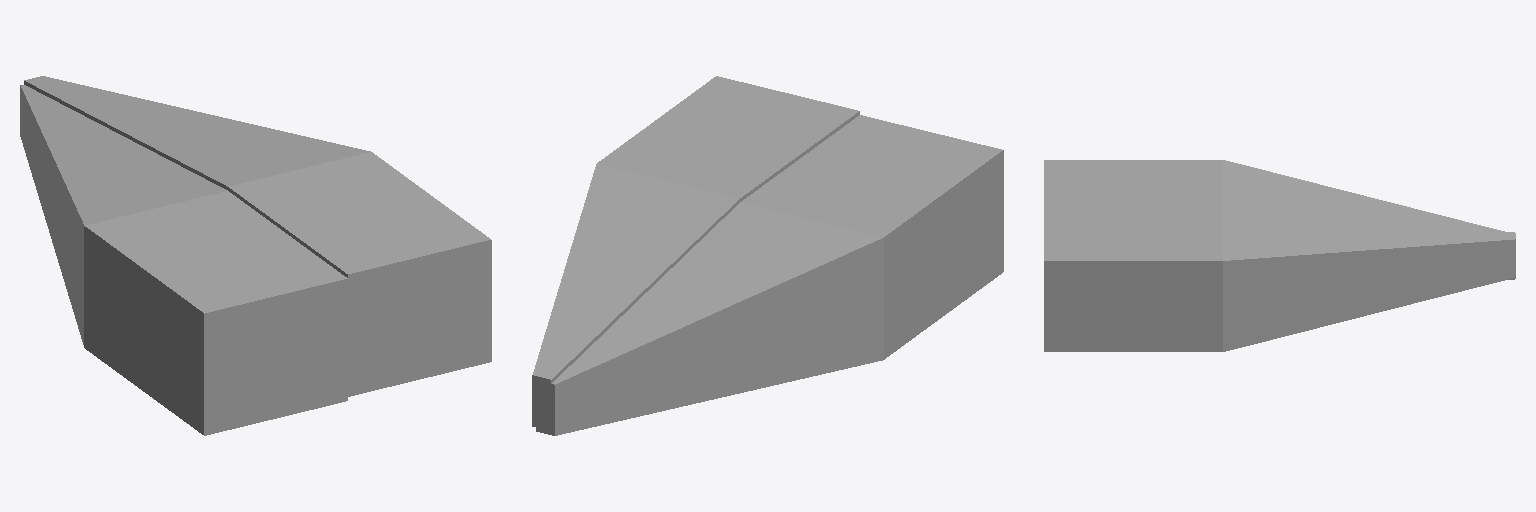
The robot description file, URDF, robot "ur10e_robot":
<?xml version="1.0" ?>
<!-- =================================================================================== -->
<!-- |    This document was autogenerated by xacro from ur10e.xacro                    | -->
<!-- |    EDITING THIS FILE BY HAND IS NOT RECOMMENDED                                 | -->
<!-- =================================================================================== -->
<robot name="ur10e_robot">
  <!--
    Base UR robot series xacro macro.

    NOTE: this is NOT a URDF. It cannot directly be loaded by consumers
    expecting a flattened '.urdf' file. See the top-level '.xacro' for that
    (but note: that .xacro must still be processed by the xacro command).

    For use in '.launch' files: use one of the 'load_urX.launch' convenience
    launch files.

    This file models the base kinematic chain of a UR robot, which then gets
    parameterised by various configuration files to convert it into a UR3(e),
    UR5(e), UR10(e) or UR16e.

    NOTE: the default kinematic parameters (ie: link lengths, frame locations,
    offets, etc) do not correspond to any particular robot. They are defaults
    only. There WILL be non-zero offsets between the Forward Kinematics results
    in TF (ie: robot_state_publisher) and the values reported by the Teach
    Pendant.

    For accurate (and robot-specific) transforms, the 'kinematics_parameters_file'
    parameter MUST point to a .yaml file containing the appropriate values for
    the targetted robot.

    If using the UniversalRobots/Universal_Robots_ROS_Driver, follow the steps
    described in the readme of that repository to extract the kinematic
    calibration from the controller and generate the required .yaml file.

    Main author of the migration to yaml configs: [author].

    Contributors to previous versions (in no particular order):

     - [author]
     - [author]
     - [author]
     - [author]
     - [author]
     - [author]
     - [author]
     - [author]
     - [author]
     - [author]
     - [author]
     - [author]
     - [author]
     - [author]
     - [author]
     - [author]
     - [author]
  -->
  <!--
    NOTE: the macro defined in this file is NOT part of the public API of this
          package. Users CANNOT rely on this file being available, or stored in
          this location. Nor can they rely on the existence of the macro.
  -->
  <transmission name="shoulder_pan_trans">
    <type>transmission_interface/SimpleTransmission</type>
    <joint name="shoulder_pan_joint">
      <hardwareInterface>hardware_interface/PositionJointInterface</hardwareInterface>
    </joint>
    <actuator name="shoulder_pan_motor">
      <mechanicalReduction>1</mechanicalReduction>
    </actuator>
  </transmission>
  <transmission name="shoulder_lift_trans">
    <type>transmission_interface/SimpleTransmission</type>
    <joint name="shoulder_lift_joint">
      <hardwareInterface>hardware_interface/PositionJointInterface</hardwareInterface>
    </joint>
    <actuator name="shoulder_lift_motor">
      <mechanicalReduction>1</mechanicalReduction>
    </actuator>
  </transmission>
  <transmission name="elbow_trans">
    <type>transmission_interface/SimpleTransmission</type>
    <joint name="elbow_joint">
      <hardwareInterface>hardware_interface/PositionJointInterface</hardwareInterface>
    </joint>
    <actuator name="elbow_motor">
      <mechanicalReduction>1</mechanicalReduction>
    </actuator>
  </transmission>
  <transmission name="wrist_1_trans">
    <type>transmission_interface/SimpleTransmission</type>
    <joint name="wrist_1_joint">
      <hardwareInterface>hardware_interface/PositionJointInterface</hardwareInterface>
    </joint>
    <actuator name="wrist_1_motor">
      <mechanicalReduction>1</mechanicalReduction>
    </actuator>
  </transmission>
  <transmission name="wrist_2_trans">
    <type>transmission_interface/SimpleTransmission</type>
    <joint name="wrist_2_joint">
      <hardwareInterface>hardware_interface/PositionJointInterface</hardwareInterface>
    </joint>
    <actuator name="wrist_2_motor">
      <mechanicalReduction>1</mechanicalReduction>
    </actuator>
  </transmission>
  <transmission name="wrist_3_trans">
    <type>transmission_interface/SimpleTransmission</type>
    <joint name="wrist_3_joint">
      <hardwareInterface>hardware_interface/PositionJointInterface</hardwareInterface>
    </joint>
    <actuator name="wrist_3_motor">
      <mechanicalReduction>1</mechanicalReduction>
    </actuator>
  </transmission>
  <!-- links: main serial chain -->
  <link name="base_link"/>
  <link name="base_link_inertia">
    <visual>
      <origin rpy="0 0 3.141592653589793" xyz="0 0 0"/>
      <geometry>
        <mesh filename="mesh/visual/base.dae"/>
      </geometry>
      <material name="LightGrey">
        <color rgba="0.7 0.7 0.7 1.0"/>
      </material>
    </visual>
    <collision>
      <origin rpy="0 0 3.141592653589793" xyz="0 0 0"/>
      <geometry>
        <mesh filename="mesh/collision/base.stl"/>
      </geometry>
    </collision>
    <inertial>
      <mass value="4.0"/>
      <origin rpy="0 0 0" xyz="0 0 0"/>
      <inertia ixx="0.0061063308908" ixy="0.0" ixz="0.0" iyy="0.0061063308908" iyz="0.0" izz="0.01125"/>
    </inertial>
  </link>
  <link name="shoulder_link">
    <visual>
      <origin rpy="0 0 3.141592653589793" xyz="0 0 0"/>
      <geometry>
        <mesh filename="mesh/visual/shoulder.dae"/>
      </geometry>
      <material name="LightGrey">
        <color rgba="0.7 0.7 0.7 1.0"/>
      </material>
    </visual>
    <collision>
      <origin rpy="0 0 3.141592653589793" xyz="0 0 0"/>
      <geometry>
        <mesh filename="mesh/collision/shoulder.stl"/>
      </geometry>
    </collision>
    <inertial>
      <mass value="7.778"/>
      <origin rpy="0 0 0" xyz="0 0 0"/>
      <inertia ixx="0.03147431257693659" ixy="0.0" ixz="0.0" iyy="0.03147431257693659" iyz="0.0" izz="0.021875624999999996"/>
    </inertial>
  </link>
  <link name="upper_arm_link">
    <visual>
      <origin rpy="1.5707963267948966 0 -1.5707963267948966" xyz="0 0 0.1762"/>
      <geometry>
        <mesh filename="mesh/visual/upperarm.dae"/>
      </geometry>
      <material name="LightGrey">
        <color rgba="0.7 0.7 0.7 1.0"/>
      </material>
    </visual>
    <collision>
      <origin rpy="1.5707963267948966 0 -1.5707963267948966" xyz="0 0 0.1762"/>
      <geometry>
        <mesh filename="mesh/collision/upperarm.stl"/>
      </geometry>
    </collision>
    <inertial>
      <mass value="12.93"/>
      <origin rpy="0 1.5707963267948966 0" xyz="-0.306 0.0 0.175"/>
      <inertia ixx="0.42175380379841093" ixy="0.0" ixz="0.0" iyy="0.42175380379841093" iyz="0.0" izz="0.03636562499999999"/>
    </inertial>
  </link>
  <link name="forearm_link">
    <visual>
      <origin rpy="1.5707963267948966 0 -1.5707963267948966" xyz="0 0 0.0393"/>
      <geometry>
        <mesh filename="mesh/visual/forearm.dae"/>
      </geometry>
      <material name="LightGrey">
        <color rgba="0.7 0.7 0.7 1.0"/>
      </material>
    </visual>
    <collision>
      <origin rpy="1.5707963267948966 0 -1.5707963267948966" xyz="0 0 0.0393"/>
      <geometry>
        <mesh filename="mesh/collision/forearm.stl"/>
      </geometry>
    </collision>
    <inertial>
      <mass value="3.87"/>
      <origin rpy="0 1.5707963267948966 0" xyz="-0.285775 0.0 0.0393"/>
      <inertia ixx="0.11079302548902206" ixy="0.0" ixz="0.0" iyy="0.11079302548902206" iyz="0.0" izz="0.010884375"/>
    </inertial>
  </link>
  <link name="wrist_1_link">
    <visual>
      <!-- TODO: Move this to a parameter -->
      <origin rpy="1.5707963267948966 0 0" xyz="0 0 -0.135"/>
      <geometry>
        <mesh filename="mesh/visual/wrist1.dae"/>
      </geometry>
      <material name="LightGrey">
        <color rgba="0.7 0.7 0.7 1.0"/>
      </material>
    </visual>
    <collision>
      <origin rpy="1.5707963267948966 0 0" xyz="0 0 -0.135"/>
      <geometry>
        <mesh filename="mesh/collision/wrist1.stl"/>
      </geometry>
    </collision>
    <inertial>
      <mass value="1.96"/>
      <origin rpy="0 0 0" xyz="0 0 0"/>
      <inertia ixx="0.005108247956699999" ixy="0.0" ixz="0.0" iyy="0.005108247956699999" iyz="0.0" izz="0.005512499999999999"/>
    </inertial>
  </link>
  <link name="wrist_2_link">
    <visual>
      <origin rpy="0 0 0" xyz="0 0 -0.12"/>
      <geometry>
        <mesh filename="mesh/visual/wrist2.dae"/>
      </geometry>
      <material name="LightGrey">
        <color rgba="0.7 0.7 0.7 1.0"/>
      </material>
    </visual>
    <collision>
      <origin rpy="0 0 0" xyz="0 0 -0.12"/>
      <geometry>
        <mesh filename="mesh/collision/wrist2.stl"/>
      </geometry>
    </collision>
    <inertial>
      <mass value="1.96"/>
      <origin rpy="0 0 0" xyz="0 0 0"/>
      <inertia ixx="0.005108247956699999" ixy="0.0" ixz="0.0" iyy="0.005108247956699999" iyz="0.0" izz="0.005512499999999999"/>
    </inertial>
  </link>
  <link name="wrist_3_link">
    <visual>
      <origin rpy="1.5707963267948966 0 0" xyz="0 0 -0.1168"/>
      <geometry>
        <mesh filename="mesh/visual/wrist3.dae"/>
      </geometry>
      <material name="LightGrey">
        <color rgba="0.7 0.7 0.7 1.0"/>
      </material>
    </visual>
    <collision>
      <origin rpy="1.5707963267948966 0 0" xyz="0 0 -0.1168"/>
      <geometry>
        <mesh filename="mesh/collision/wrist3.stl"/>
      </geometry>
    </collision>
    <inertial>
      <mass value="0.202"/>
      <origin rpy="0 0 0" xyz="0.0 0.0 -0.025"/>
      <inertia ixx="0.00014434577559500002" ixy="0.0" ixz="0.0" iyy="0.00014434577559500002" iyz="0.0" izz="0.00020452500000000002"/>
    </inertial>
  </link>
  <!-- joints: main serial chain -->
  <joint name="base_link-base_link_inertia" type="fixed">
    <parent link="base_link"/>
    <child link="base_link_inertia"/>
    <!-- 'base_link' is REP-103 aligned (so X+ forward), while the internal
           frames of the robot/controller have X+ pointing backwards.
           Use the joint between 'base_link' and 'base_link_inertia' (a dummy
           link/frame) to introduce the necessary rotation over Z (of pi rad).
      -->
    <origin rpy="0 0 3.141592653589793" xyz="0 0 0"/>
  </joint>
  <joint name="shoulder_pan_joint" type="revolute">
    <parent link="base_link_inertia"/>
    <child link="shoulder_link"/>
    <origin rpy="0 0 0" xyz="0 0 0.1807"/>
    <axis xyz="0 0 1"/>
    <limit effort="330.0" lower="-6.283185307179586" upper="6.283185307179586" velocity="2.0943951023931953"/>
    <dynamics damping="0" friction="0"/>
  </joint>
  <joint name="shoulder_lift_joint" type="revolute">
    <parent link="shoulder_link"/>
    <child link="upper_arm_link"/>
    <origin rpy="1.570796327 0 0" xyz="0 0 0"/>
    <axis xyz="0 0 1"/>
    <limit effort="330.0" lower="-6.283185307179586" upper="6.283185307179586" velocity="2.0943951023931953"/>
    <dynamics damping="0" friction="0"/>
  </joint>
  <joint name="elbow_joint" type="revolute">
    <parent link="upper_arm_link"/>
    <child link="forearm_link"/>
    <origin rpy="0 0 0" xyz="-0.6127 0 0"/>
    <axis xyz="0 0 1"/>
    <limit effort="150.0" lower="-3.141592653589793" upper="3.141592653589793" velocity="3.141592653589793"/>
    <dynamics damping="0" friction="0"/>
  </joint>
  <joint name="wrist_1_joint" type="revolute">
    <parent link="forearm_link"/>
    <child link="wrist_1_link"/>
    <origin rpy="0 0 0" xyz="-0.57155 0 0.17415"/>
    <axis xyz="0 0 1"/>
    <limit effort="56.0" lower="-6.283185307179586" upper="6.283185307179586" velocity="3.141592653589793"/>
    <dynamics damping="0" friction="0"/>
  </joint>
  <joint name="wrist_2_joint" type="revolute">
    <parent link="wrist_1_link"/>
    <child link="wrist_2_link"/>
    <origin rpy="1.570796327 0 0" xyz="0 -0.11985 -2.458164590756244e-11"/>
    <axis xyz="0 0 1"/>
    <limit effort="56.0" lower="-6.283185307179586" upper="6.283185307179586" velocity="3.141592653589793"/>
    <dynamics damping="0" friction="0"/>
  </joint>
  <joint name="wrist_3_joint" type="revolute">
    <parent link="wrist_2_link"/>
    <child link="wrist_3_link"/>
    <origin rpy="1.570796326589793 3.141592653589793 3.141592653589793" xyz="0 0.11655 -2.390480459346185e-11"/>
    <axis xyz="0 0 1"/>
    <limit effort="56.0" lower="-6.283185307179586" upper="6.283185307179586" velocity="3.141592653589793"/>
    <dynamics damping="0" friction="0"/>
  </joint>
  <!-- ROS-Industrial 'base' frame: base_link to UR 'Base' Coordinates transform -->
  <link name="base"/>
  <joint name="base_link-base_fixed_joint" type="fixed">
    <!-- Note the rotation over Z of pi radians: as base_link is REP-103
           aligned (ie: has X+ forward, Y+ left and Z+ up), this is needed
           to correctly align 'base' with the 'Base' coordinate system of
           the UR controller.
      -->
    <origin rpy="0 0 3.141592653589793" xyz="0 0 0"/>
    <parent link="base_link"/>
    <child link="base"/>
  </joint>
  
  <!-- wsg50 -->
  <joint name="palm_joint" type="fixed">
      <parent link="wrist_3_link"/>
      <child link="palm_link"/>
  </joint>

  <link name="palm_link">
    <inertial>
        <mass value="0.25" />
        <origin xyz="0 0 0" />
        <inertia  ixx="1.0" ixy="0.0"  ixz="0.0"  iyy="1.0"  iyz="0.0"  izz="1.0" />
    </inertial>
    <visual>
      <origin xyz="0 0 0" rpy="0 0 0" />
      <geometry>
          <mesh filename="meshes_wsg50/palm_110.stl" />
        </geometry>
    </visual>
    <visual>
      <origin xyz="0 0 0" rpy="0 0 0" />
      <geometry>
          <mesh filename="meshes_wsg50/black_plate.dae" />
        </geometry>
    </visual>
    <collision>
      <origin xyz="0 0 0" rpy="0 0 0" />
      <geometry>
          <mesh filename="meshes_wsg50/palm_110.stl" scale="0.001 0.001 0.001" />
      </geometry>
    </collision>
  </link>

  <joint name="finger_left_joint" type="prismatic" >
    <origin xyz="0 0.015 0.0719" rpy="0 0 0"/>
    <parent link="palm_link" />
    <child link="finger_left_link" />
    <axis xyz="1 0 0" />
    <limit effort="10" lower="0" upper="0.055" velocity="0.42"/>
  </joint>

  <link name="finger_left_link">
    <inertial>
        <mass value="0.25" />
        <origin xyz="0 0 0" />
        <inertia  ixx="1.0" ixy="0.0"  ixz="0.0"  iyy="1.0"  iyz="0.0"  izz="1.0" />
    </inertial>
    <visual>
      <origin xyz="0 0 0" rpy="-1.5708 -1.5708 0" />
      <geometry>
        <mesh filename="meshes_wsg50/ffinger.stl" scale="0.001 0.001 0.001" />
      </geometry>
      <material name="LightGrey">
        <color rgba="0.7 0.7 0.7 1.0"/>
      </material>
    </visual>
    <collision>
      <origin xyz="0 0 0" rpy="-1.5708 -1.5708 0" />
      <geometry>
          <mesh filename="meshes_wsg50/ffinger.stl" scale="0.001 0.001 0.001" />
      </geometry>
    </collision>
  </link>

  <joint name="finger_right_joint" type="prismatic" >
    <origin xyz="0 -0.015 0.0719" rpy="0 0 3.1415926"/>
    <parent link="palm_link" />
    <child link="finger_right_link" />
    <axis xyz="1 0 0" />
    <limit effort="10" lower="0" upper="0.055" velocity="0.42"/>
    <mimic joint="finger_left_joint" multiplier="1" offset="0"/>
  </joint>

  <link name="finger_right_link">
    <inertial>
        <mass value="0.25" />
        <origin xyz="0 0 0" />
        <inertia  ixx="1.0" ixy="0.0"  ixz="0.0"  iyy="1.0"  iyz="0.0"  izz="1.0" />
    </inertial>
    <visual>
      <origin xyz="0 0 0" rpy="-1.5708 -1.5708 0" />
      <geometry>
         <mesh filename="meshes_wsg50/ffinger.stl" scale="0.001 0.001 0.001" />
      </geometry>
      <material name="LightGrey">
        <color rgba="0.7 0.7 0.7 1.0"/>
      </material>
    </visual>
    <collision>
      <origin xyz="0 0 0" rpy="-1.5708 -1.5708 0" />
      <geometry>
          <mesh filename="meshes_wsg50/ffinger.stl" scale="0.001 0.001 0.001" />
      </geometry>
    </collision>
  </link>

</robot>

--- Render facts (derived) ---
3 views of the same robot in one strip: view 1: azimuth 30°, elevation 25°; view 2: azimuth 150°, elevation 25°; view 3: azimuth 270°, elevation 25° (orthographic).
Model ur10e_robot with 12 links and 11 joints (6 revolute, 2 prismatic, 3 fixed), rooted at base_link, posed every joint at zero.
Visible links, largest first — view 1: finger_left_link, finger_right_link; view 2: finger_left_link, finger_right_link; view 3: finger_right_link, finger_left_link.
Link boxes in pixels (<box>): finger_left_link: <box>20,85,347,435</box>; finger_right_link: <box>24,76,491,396</box>; finger_left_link: <box>536,115,1003,435</box>; finger_right_link: <box>532,76,859,429</box>; finger_right_link: <box>1044,209,1515,351</box>; finger_left_link: <box>1044,160,1515,279</box>.
Bounding box of the posed robot: 0.076 × 0.145 × 0.032 m (x, y, z).
Meshes: 10 distinct files referenced, 2 mesh visuals loaded (1 binary STL); not drawn: 9 (reference not matched to a file when rendering).